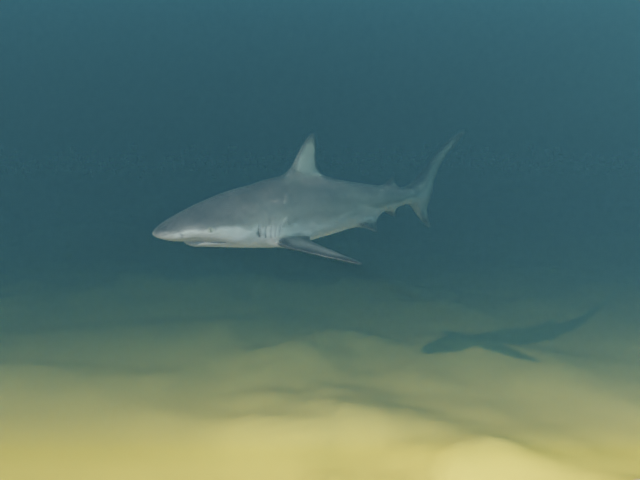Carribean Shark.001: (152, 131, 464, 264)
